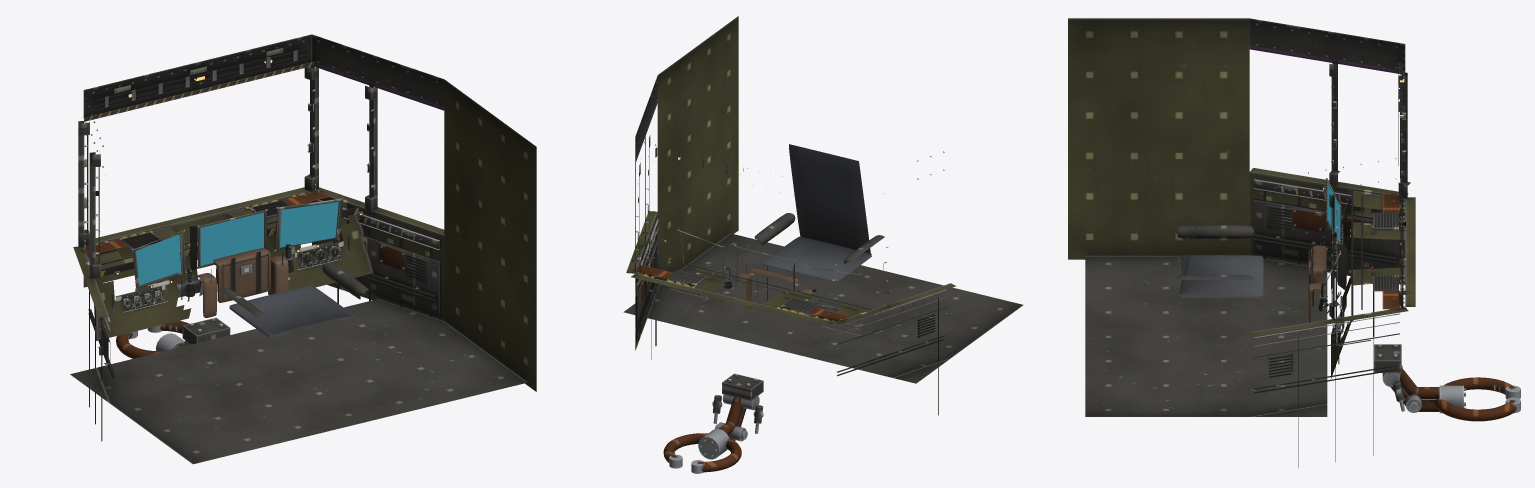
File: sd_yuk_cockpit_r015.glb
3 views of the same model, side by side, from view 1: azimuth 30°, elevation 25°; view 2: azimuth 150°, elevation 25°; view 3: azimuth 270°, elevation 25° (orthographic). The views are drawn at different scales.
Visible parts, largest first — view 1: LOD0_body, SCR_RADAR, SCR_HULL, SCR_SYS, ART_claw_root_geo; view 2: LOD0_body, ART_claw_shoulder_geo, ART_claw_root_geo, ART_claw_jaw_L_geo, ART_claw_wrist_geo, ART_claw_jaw_R_geo; view 3: LOD0_body, ART_claw_jaw_R_geo, ART_claw_jaw_L_geo, ART_claw_root_geo, ART_claw_elbow_geo, ART_claw_shoulder_geo, ART_claw_wrist_geo.
Part boxes in pixels (<box>): LOD0_body: <box>70,34,536,464</box>; SCR_RADAR: <box>200,212,263,265</box>; SCR_HULL: <box>280,202,338,247</box>; SCR_SYS: <box>136,234,181,285</box>; ART_claw_root_geo: <box>182,317,230,344</box>; LOD0_body: <box>623,16,1023,415</box>; ART_claw_shoulder_geo: <box>712,394,763,427</box>; ART_claw_root_geo: <box>722,373,763,400</box>; ART_claw_jaw_L_geo: <box>691,438,741,473</box>; ART_claw_wrist_geo: <box>698,429,728,459</box>; ART_claw_jaw_R_geo: <box>663,433,707,468</box>; LOD0_body: <box>1068,18,1415,467</box>; ART_claw_jaw_R_geo: <box>1435,397,1520,421</box>; ART_claw_jaw_L_geo: <box>1443,377,1520,398</box>; ART_claw_root_geo: <box>1374,344,1401,372</box>; ART_claw_elbow_geo: <box>1399,387,1439,412</box>; ART_claw_shoulder_geo: <box>1382,364,1417,405</box>; ART_claw_wrist_geo: <box>1439,385,1465,413</box>.
Size of the model in its own units: 2.35 by 2 by 2.62.
3 materials, 1 textured.
